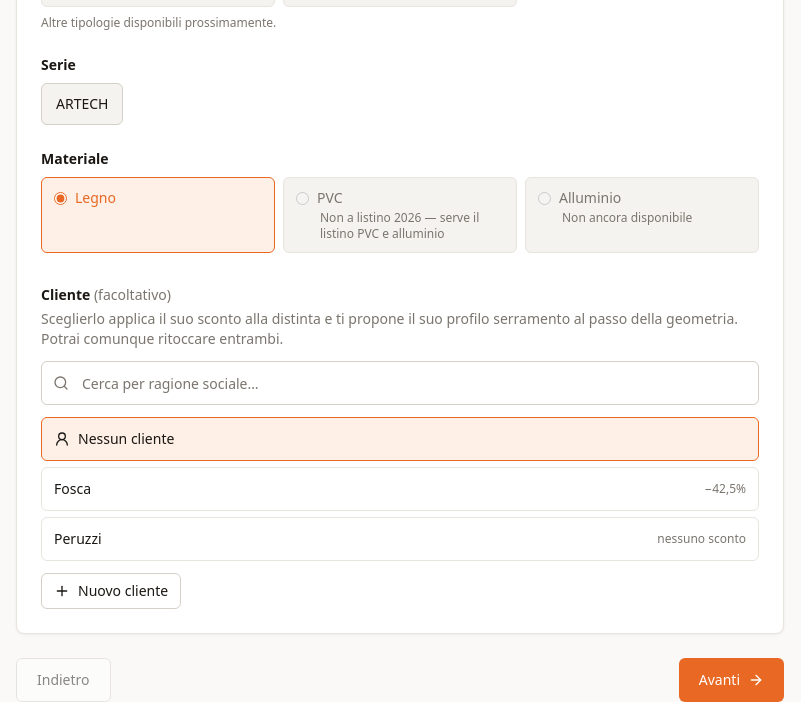
Scenario: NuovaRichiestaClient › il passo geometria offre le 7 combinazioni con aria/interasse/battuta in chiaro
(page scrolled)
Click the button "Avanti" at (731, 680), box [679, 658, 784, 701]
(page scrolled)
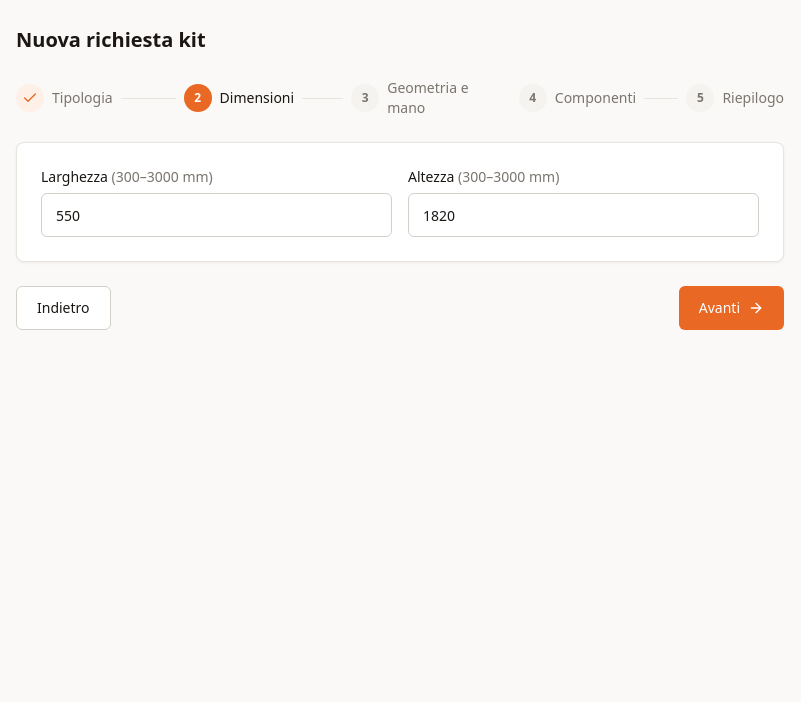
Click the button "Avanti" at (731, 308), box [679, 286, 784, 330]
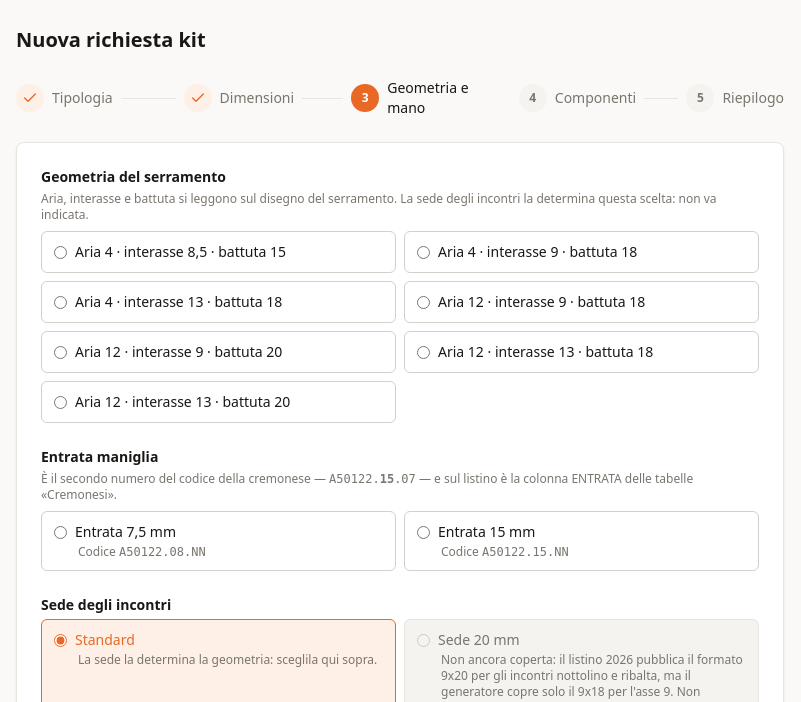
Now the radio button labelled "Aria 12 · interasse 13 · battuta 20" is shown, box [54, 396, 67, 408]
Now the radio button labelled "Aria 4 · interasse 8,5 · battuta 15" is shown, box [54, 246, 67, 258]
Now the radio button labelled "Aria 12 · interasse 13 · battuta 18" is shown, box [417, 346, 430, 358]
